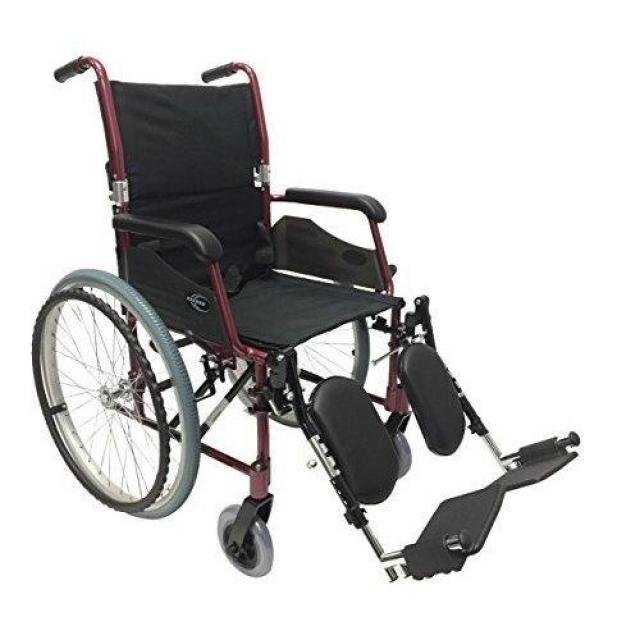wheelchair: (1, 48, 628, 590)
